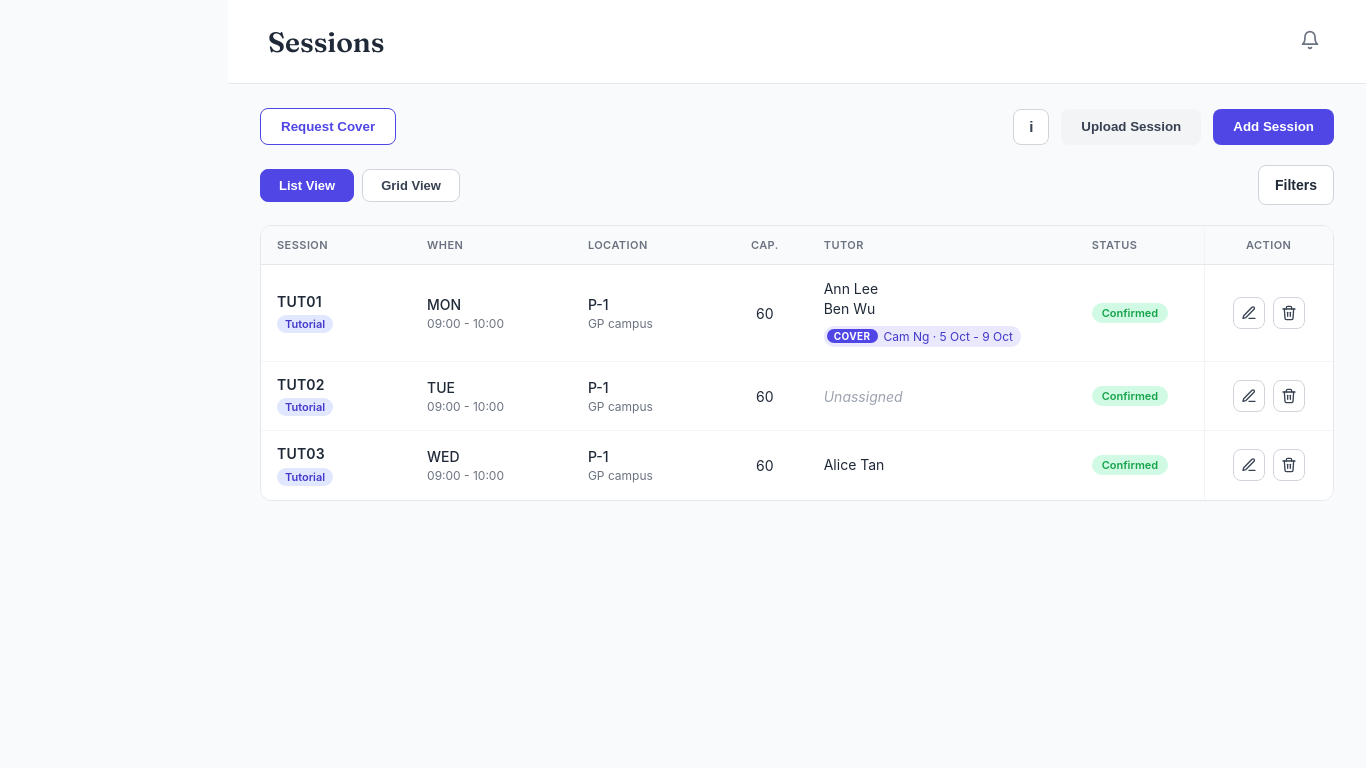
Scenario: BUG-17 Request Cover only lists tutors who have accepted their session
The width and height of the screenshot is (1366, 768).
expect the text "TUT03" is shown: met, box [277,445,325,462]
Click the button "Request Cover" at point(328, 126), box [260,108,396,145]
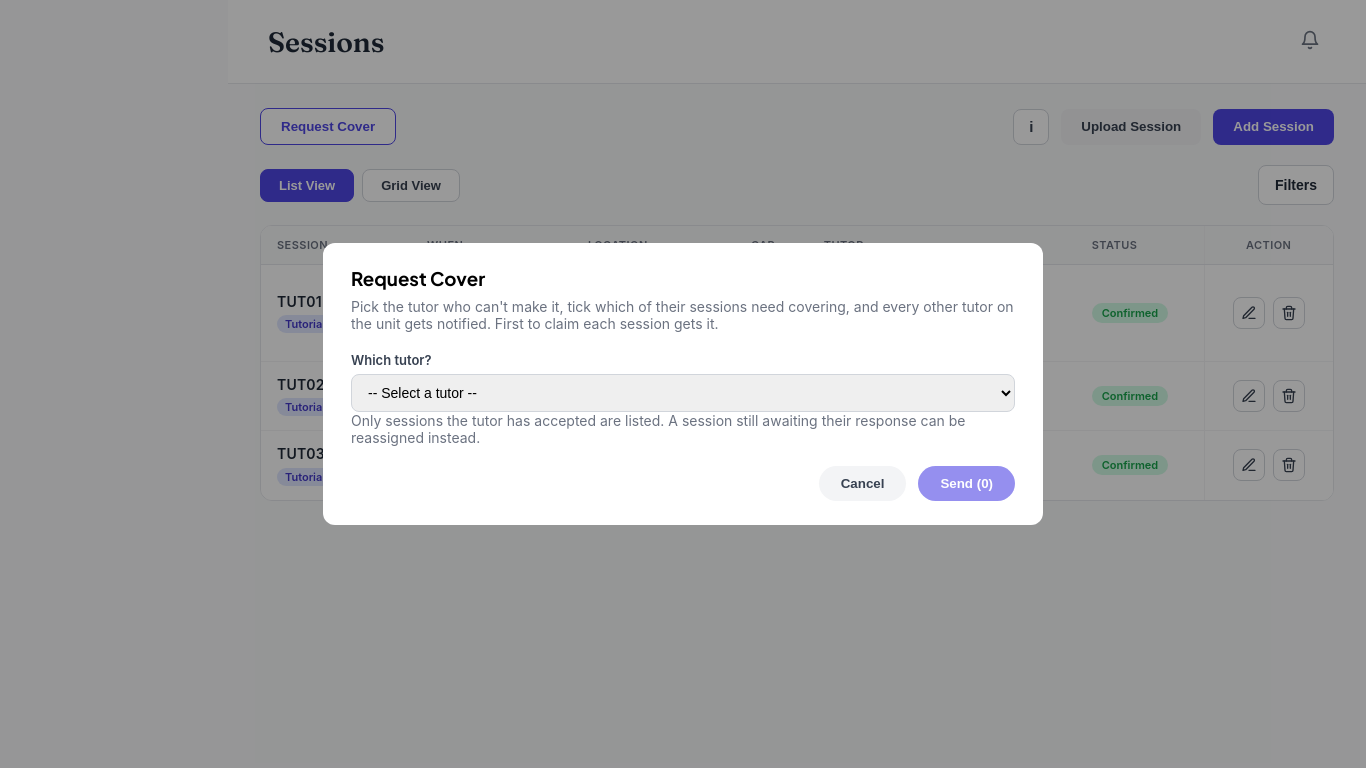
expect the option does not show "Alice Tan": met
expect the text "Only sessions the tutor has accepted are listed" is shown: met, box [351,412,966,446]
